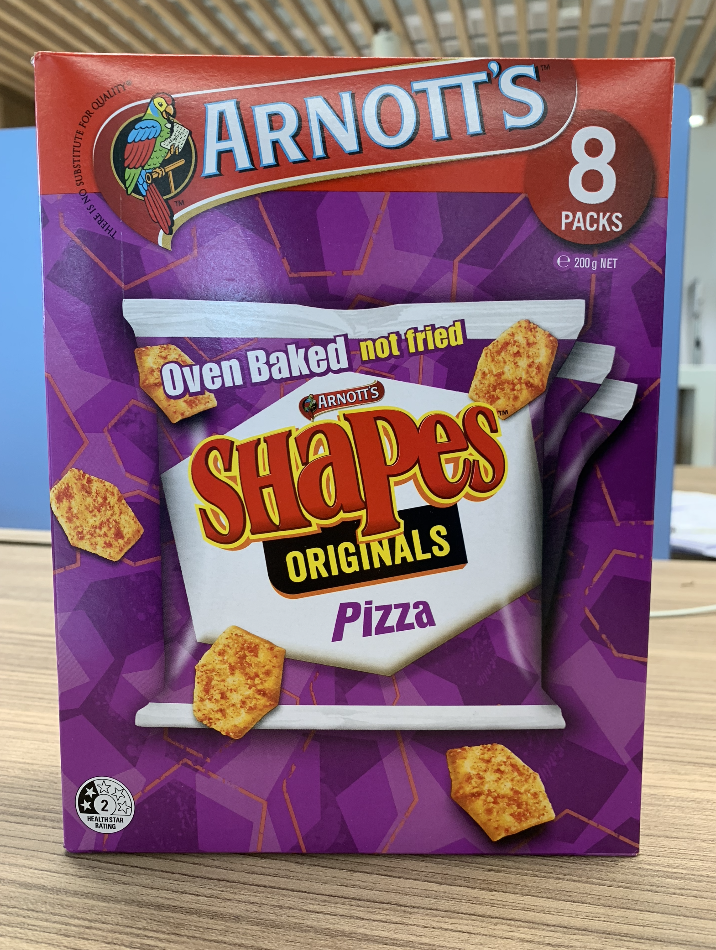crackers_200g-299g: (77, 80, 616, 838)
